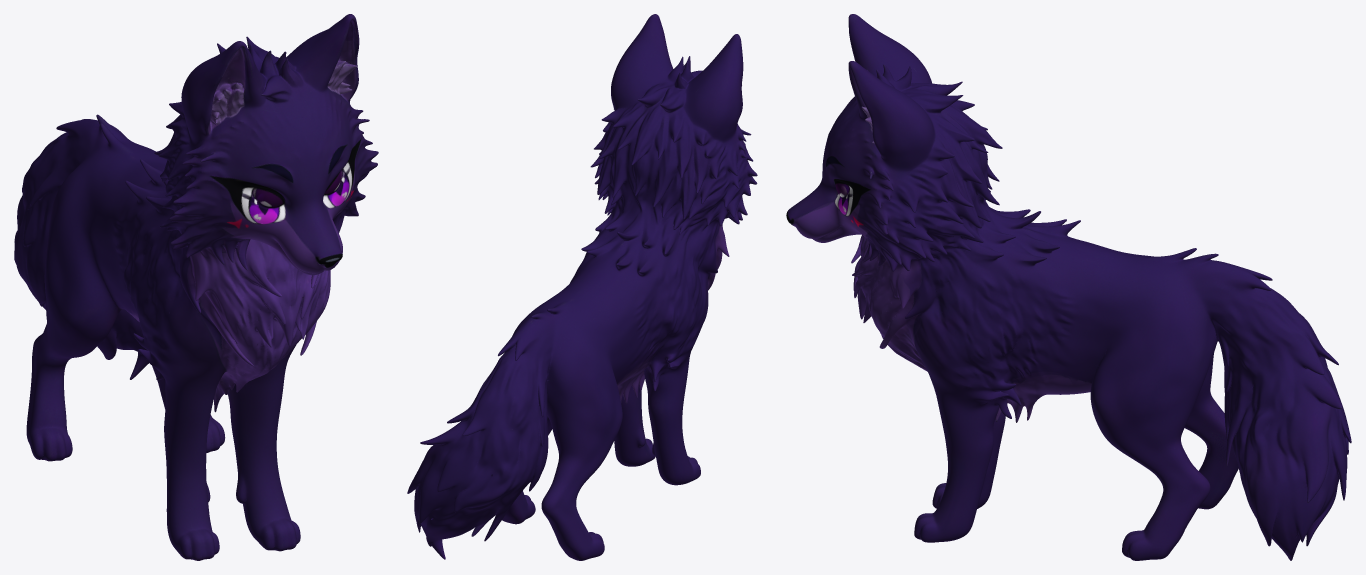
Rendered from shadow_wolf.glb.
3 renders of one model, left to right at view 1: azimuth 30°, elevation 25°; view 2: azimuth 150°, elevation 25°; view 3: azimuth 270°, elevation 25°, orthographic. The views are drawn at different scales.
Bounding box in the file's own units: 0.7765 × 1.8 × 1.9.
Materials: 1 (1 with a texture image).
